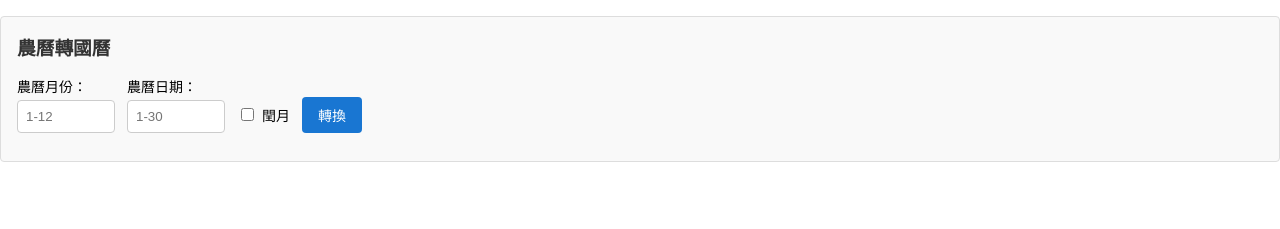
Scenario: LunarConverter › should handle API errors
Type "3" into the number field with test id "lunar-month-input" at (66, 116), box [17,100,115,133]
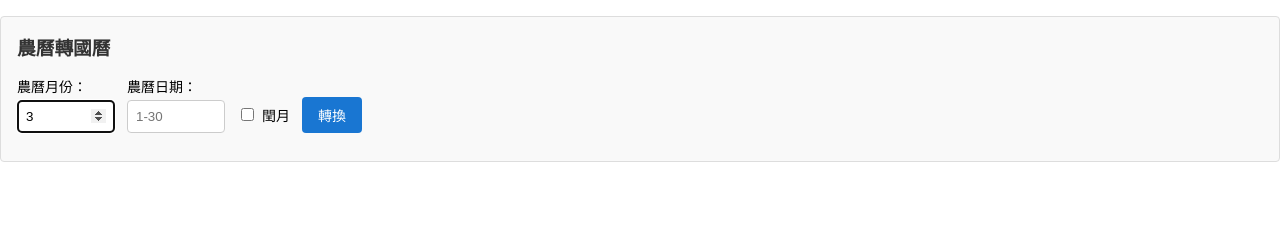
Type "23" into the number field with test id "lunar-day-input" at (176, 116), box [127,100,225,133]
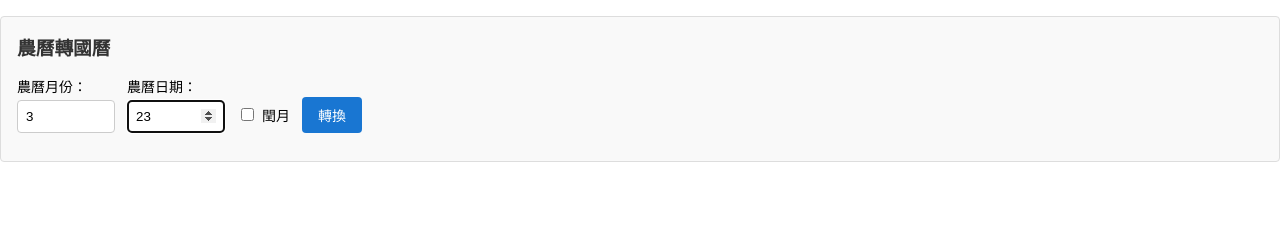
Click the button with test id "convert-button" at (332, 114), box [302,96,362,132]
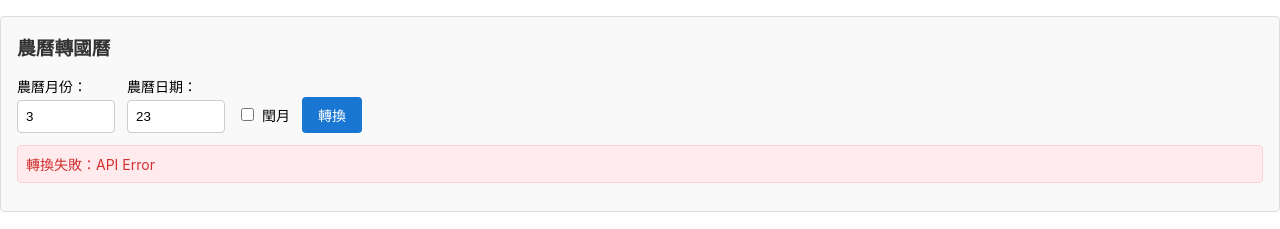
expect the text "轉換失敗：API Error" is shown: met, box [17,145,1263,183]
